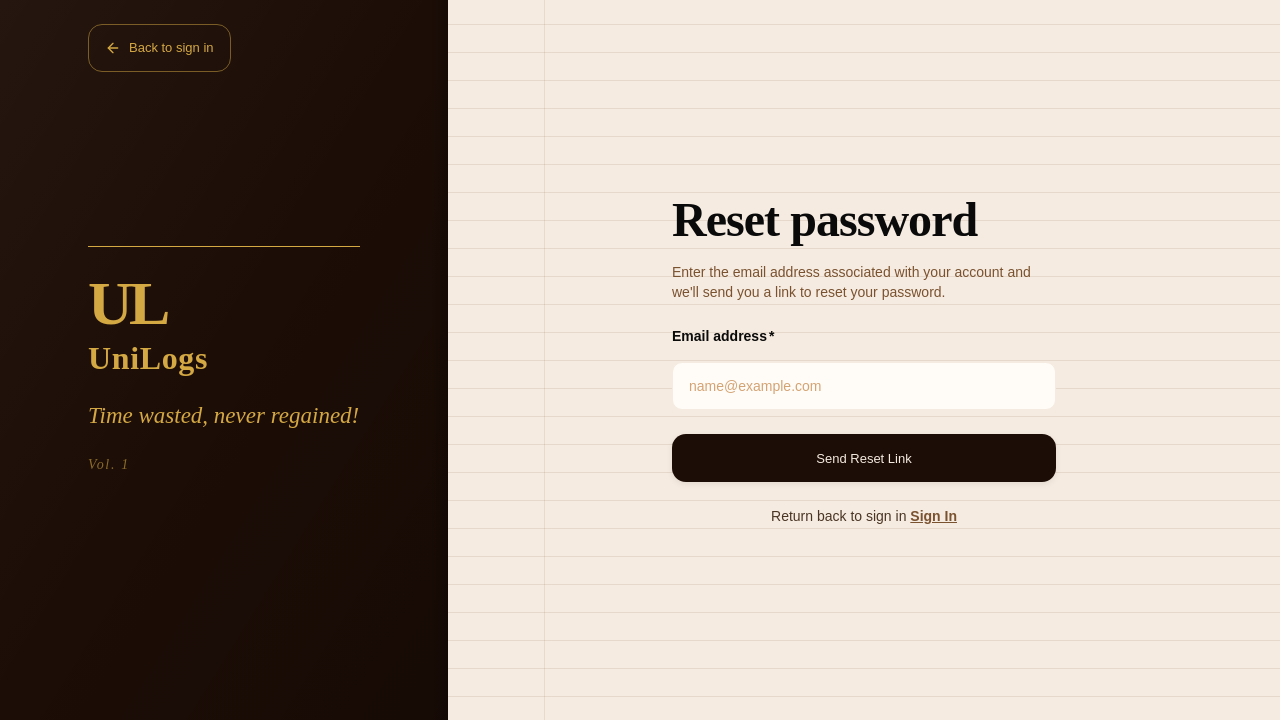
Test: ResetPasswordPage without a token › shows an error message when the request fails
The width and height of the screenshot is (1280, 720).
Type "ada@example.test" into the field labelled "Email address*" at (864, 386), box [672,362,1056,410]
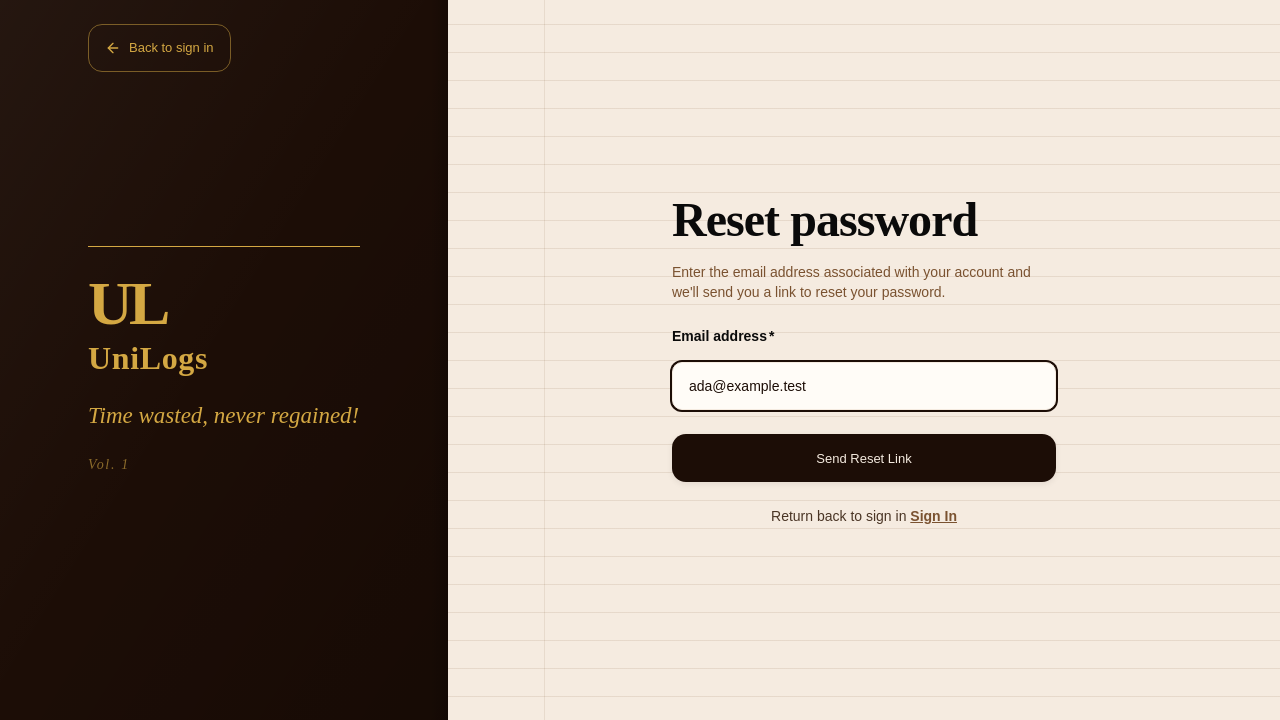
Click the button "Send Reset Link" at (864, 458), box [672,434,1056,482]
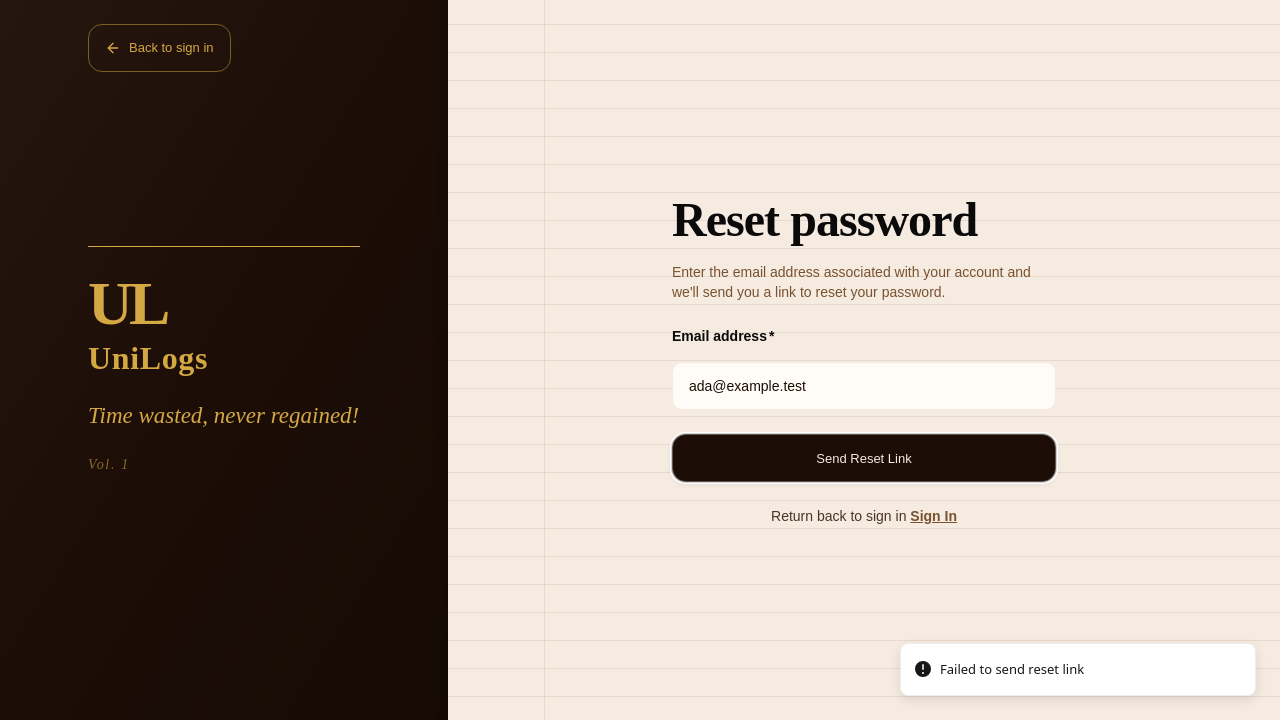
Result: the text "Failed to send reset link" is shown at [940,660,1084,679]
